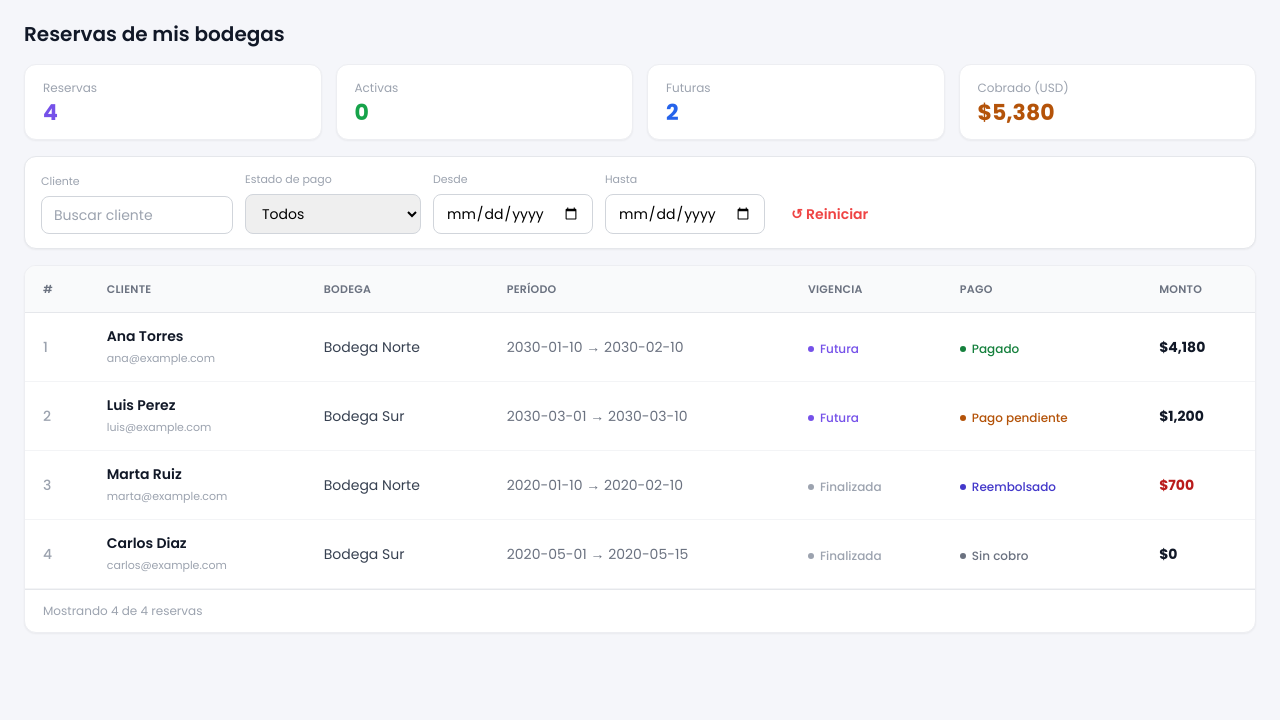
Scenario: GestorReservas › "↺ Reiniciar" clears every filter and restores the full list
The image size is (1280, 720).
Step 1. Type "Ana" into the field with placeholder "Buscar cliente" → (137, 214), box [41,196,233,234]
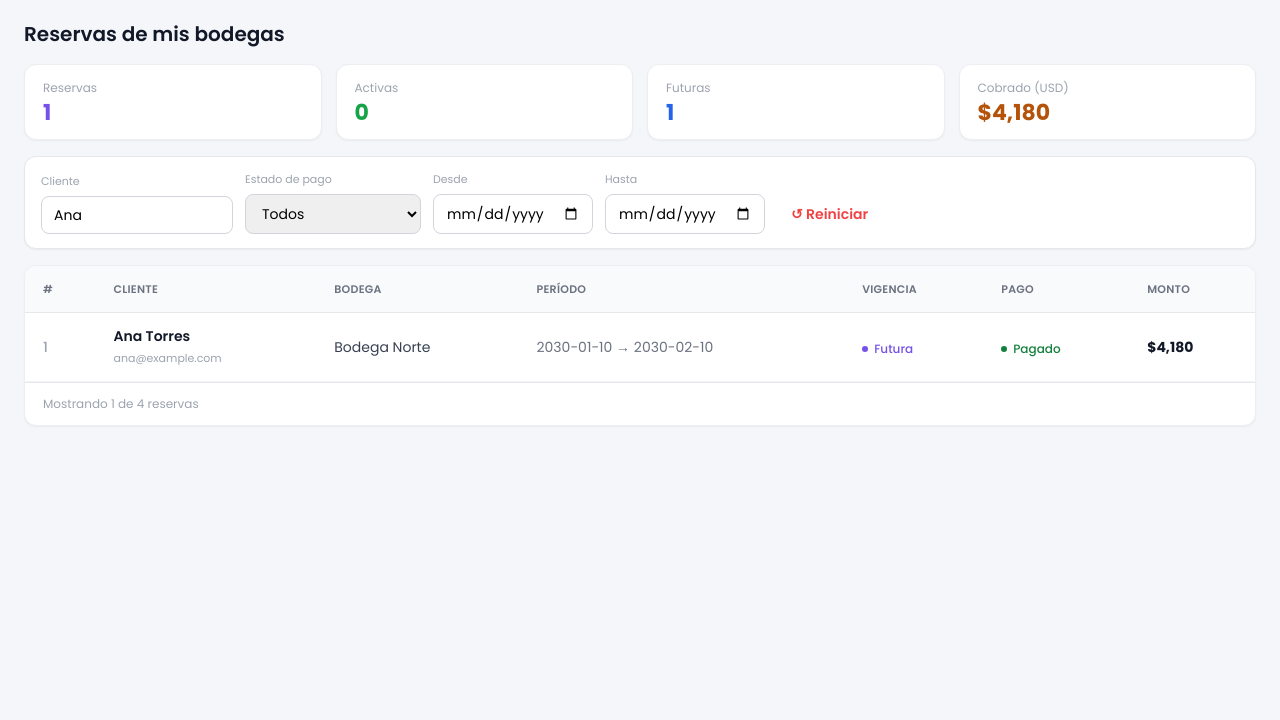
Expected: the text "Bodega Sur" is gone
Step 2. Click the button "↺ Reiniciar" → (830, 214), box [777,194,882,234]
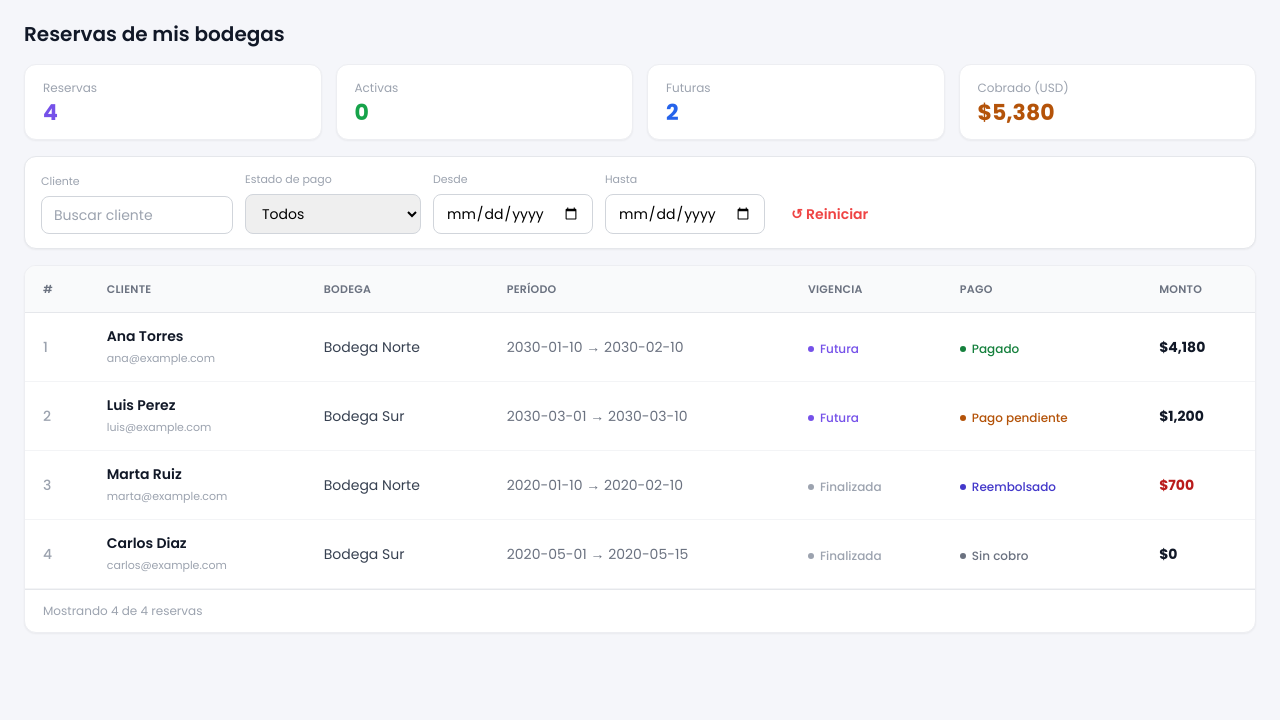
Expected: the field with placeholder "Buscar cliente" is empty, [41,196,233,234]
Expected: the text "Bodega Sur" in the row of "Luis Perez" is shown, [324,406,404,426]
